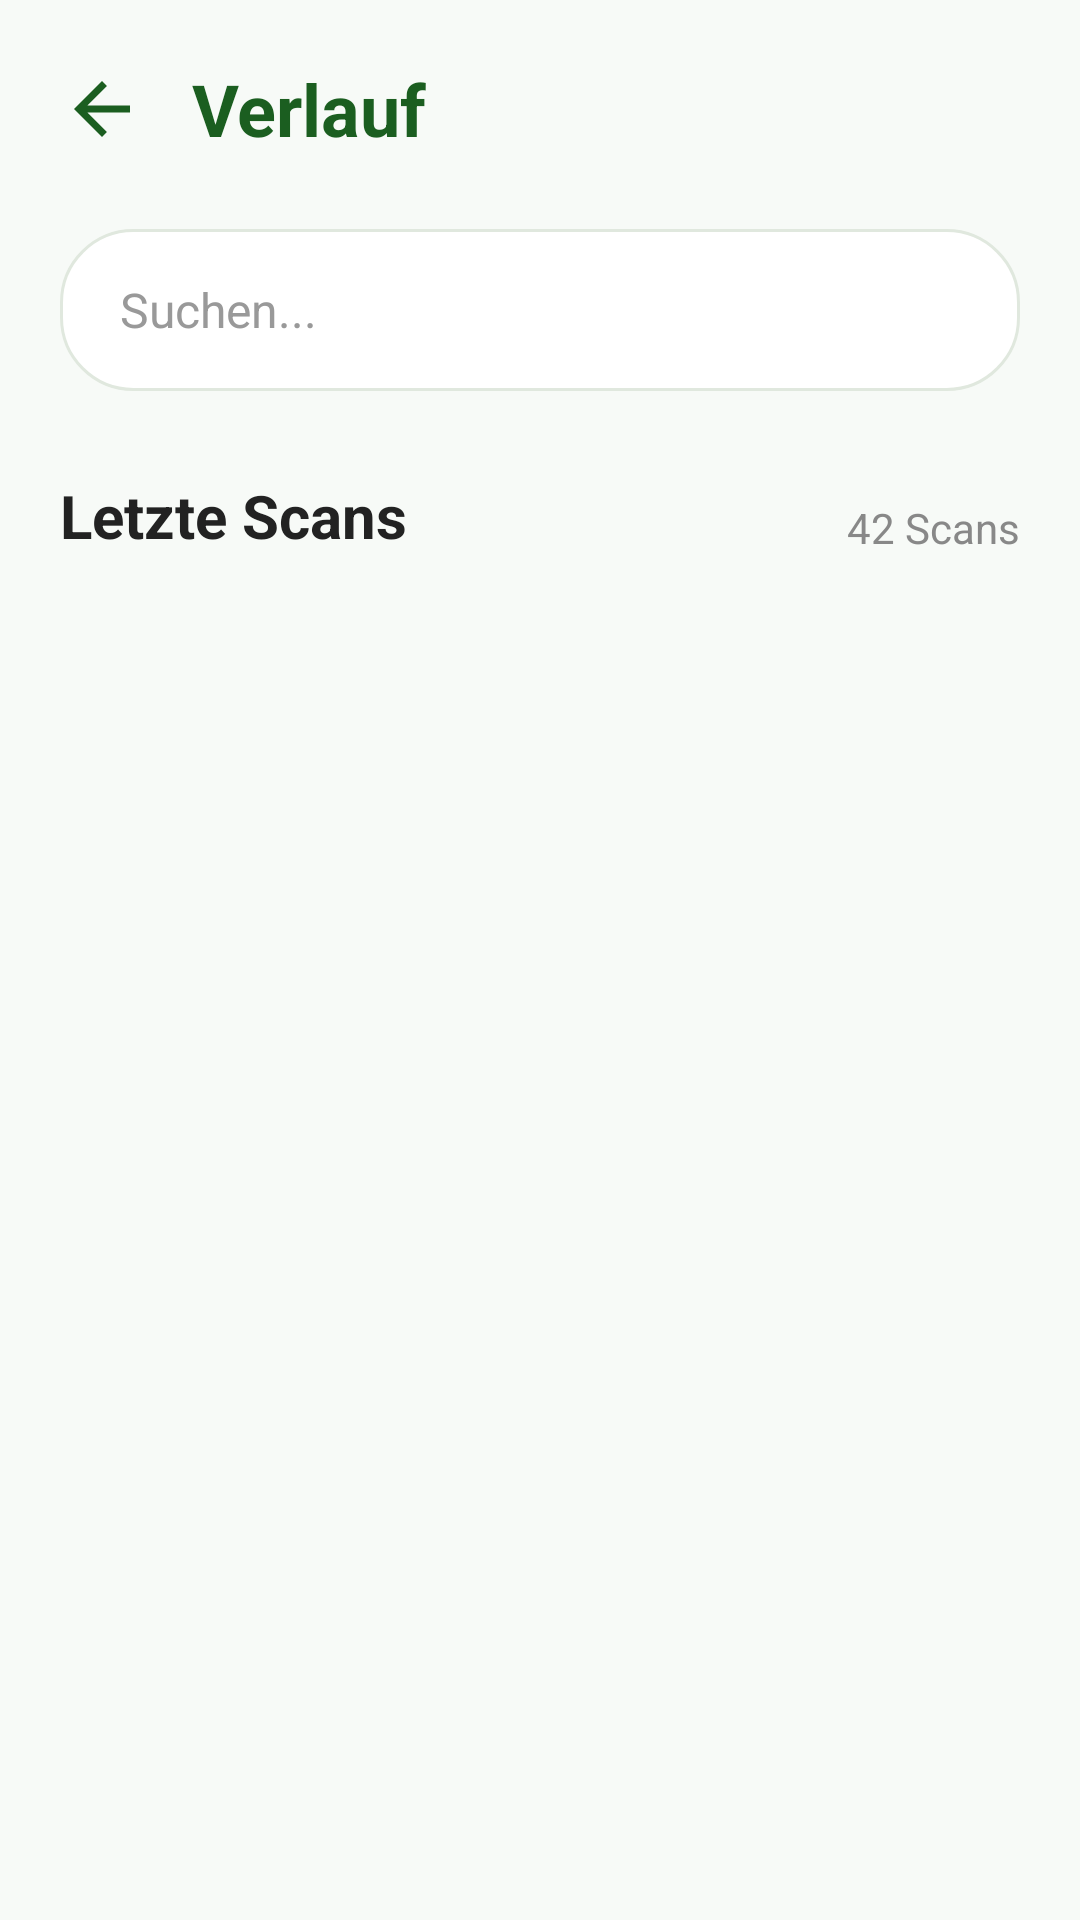

Named icons in this screenshot (1080×1920) and their bounding boxes, (x1, y1, x2, y2):
Zurück: (74, 81, 130, 137)
